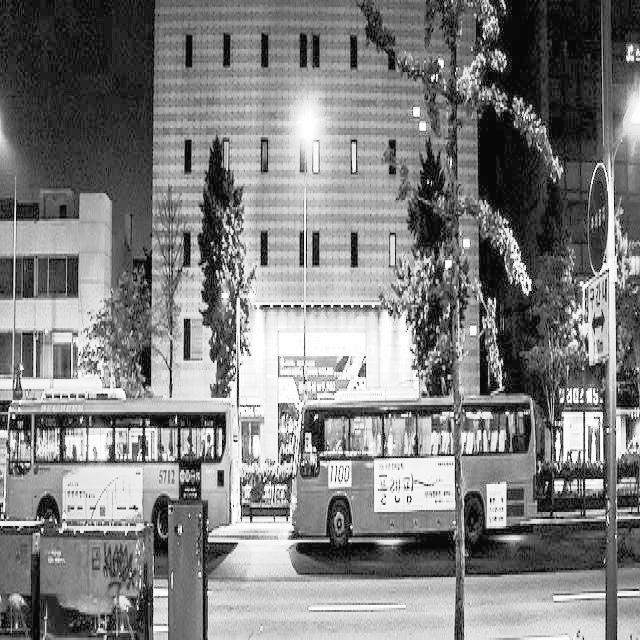Bus: (281, 392, 543, 547), (0, 385, 243, 550)
